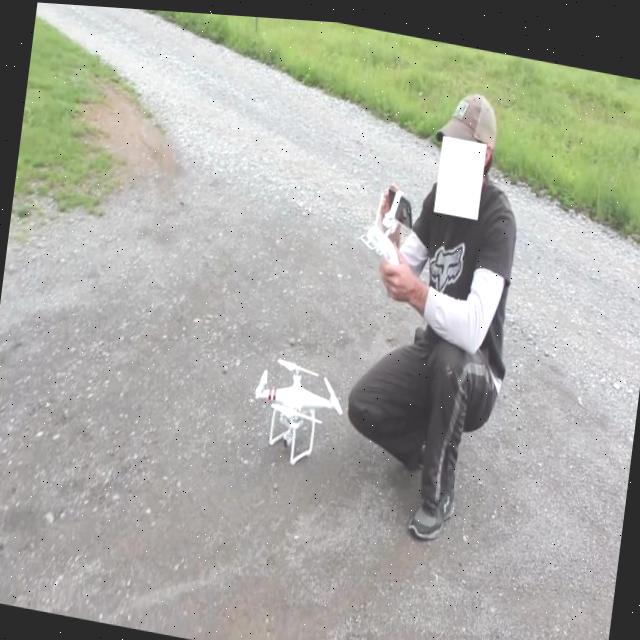drone: (245, 342, 349, 466)
